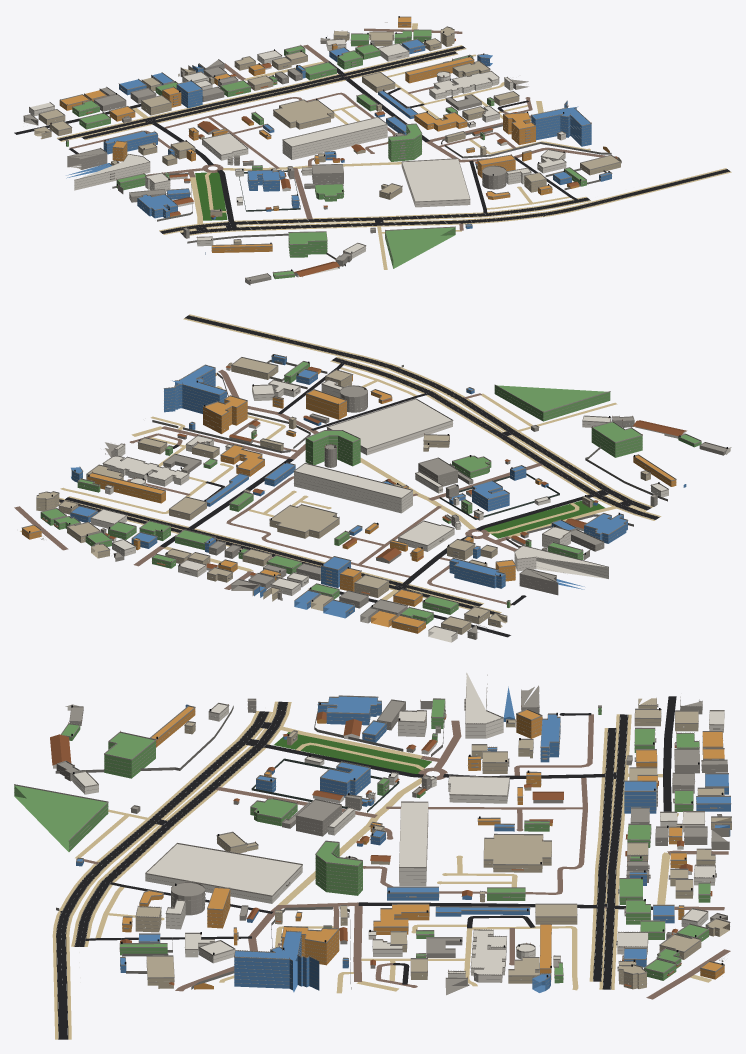
File: zone_t3_0.glb
The picture shows the model from 3 angles, top to bottom: view 1: azimuth 30°, elevation 25°; view 2: azimuth 150°, elevation 25°; view 3: azimuth 270°, elevation 25°; orthographic projection. The views are drawn at different scales.
Parts seen in each view (by area): view 1: bld_peinture_blanc_t3_0-col, parapet_t3_0, bld_peinture_vert_t3_0-col, bld_peinture_ecaillee_t3_0-col, bld_peinture_bleu_t3_0-col, route_primary_bitume_t3_0, bld_peinture_ocre_t3_0-col, accotement_t3_0, bld_beton_t3_0-col, bandeau_t3_0, route_service_terre_t3_0, route_service_paves_t3_0 (+8 smaller); view 2: bld_peinture_blanc_t3_0-col, parapet_t3_0, bld_peinture_vert_t3_0-col, bld_peinture_ecaillee_t3_0-col, bld_peinture_bleu_t3_0-col, bld_peinture_ocre_t3_0-col, bld_beton_t3_0-col, route_primary_bitume_t3_0, accotement_t3_0, bandeau_t3_0, route_service_terre_t3_0, route_service_paves_t3_0 (+8 smaller); view 3: bld_peinture_blanc_t3_0-col, parapet_t3_0, bld_peinture_vert_t3_0-col, bld_peinture_bleu_t3_0-col, bld_peinture_ecaillee_t3_0-col, route_primary_bitume_t3_0, bld_beton_t3_0-col, bld_peinture_ocre_t3_0-col, accotement_t3_0, bandeau_t3_0, route_service_terre_t3_0, route_service_paves_t3_0 (+10 smaller).
Boxes of the visible parts, x1=… form: bld_peinture_blanc_t3_0-col: x1=29, y1=39, x2=566, y2=285; parapet_t3_0: x1=23, y1=16, x2=620, y2=281; bld_peinture_vert_t3_0-col: x1=66, y1=30, x2=586, y2=279; bld_peinture_ecaillee_t3_0-col: x1=34, y1=27, x2=621, y2=244; bld_peinture_bleu_t3_0-col: x1=66, y1=39, x2=611, y2=254; route_primary_bitume_t3_0: x1=58, y1=46, x2=730, y2=235; bld_peinture_ocre_t3_0-col: x1=59, y1=17, x2=609, y2=252; accotement_t3_0: x1=57, y1=45, x2=731, y2=235; bld_beton_t3_0-col: x1=23, y1=38, x2=528, y2=284; bandeau_t3_0: x1=24, y1=22, x2=618, y2=263; route_service_terre_t3_0: x1=205, y1=54, x2=590, y2=269; route_service_paves_t3_0: x1=69, y1=86, x2=532, y2=230; bld_peinture_blanc_t3_0-col: x1=90, y1=367, x2=730, y2=642; parapet_t3_0: x1=21, y1=354, x2=728, y2=636; bld_peinture_vert_t3_0-col: x1=40, y1=362, x2=701, y2=624; bld_peinture_ecaillee_t3_0-col: x1=36, y1=358, x2=650, y2=634; bld_peinture_bleu_t3_0-col: x1=70, y1=355, x2=686, y2=618; bld_peinture_ocre_t3_0-col: x1=22, y1=370, x2=676, y2=633; bld_beton_t3_0-col: x1=101, y1=386, x2=727, y2=639; route_primary_bitume_t3_0: x1=59, y1=315, x2=659, y2=614; accotement_t3_0: x1=59, y1=314, x2=661, y2=615; bandeau_t3_0: x1=22, y1=359, x2=675, y2=639; route_service_terre_t3_0: x1=60, y1=367, x2=617, y2=533; route_service_paves_t3_0: x1=127, y1=393, x2=511, y2=605; bld_peinture_blanc_t3_0-col: x1=53, y1=672, x2=724, y2=988; parapet_t3_0: x1=14, y1=673, x2=731, y2=986; bld_peinture_vert_t3_0-col: x1=14, y1=699, x2=710, y2=983; bld_peinture_bleu_t3_0-col: x1=76, y1=686, x2=730, y2=992; bld_peinture_ecaillee_t3_0-col: x1=135, y1=698, x2=731, y2=989; route_primary_bitume_t3_0: x1=56, y1=701, x2=628, y2=1039; bld_beton_t3_0-col: x1=56, y1=685, x2=729, y2=995; bld_peinture_ocre_t3_0-col: x1=122, y1=706, x2=724, y2=989; accotement_t3_0: x1=52, y1=701, x2=631, y2=1039; bandeau_t3_0: x1=15, y1=683, x2=731, y2=987; route_service_terre_t3_0: x1=75, y1=742, x2=578, y2=993; route_service_paves_t3_0: x1=76, y1=714, x2=593, y2=987.
Bounding box in the file's own units: 626 × 26 × 538.
